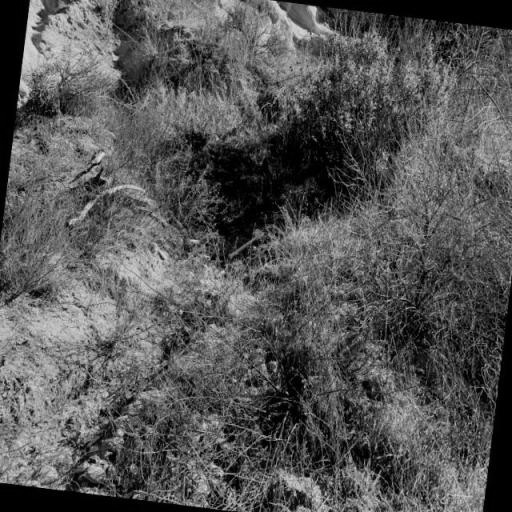mallet: (227, 226, 266, 263)
